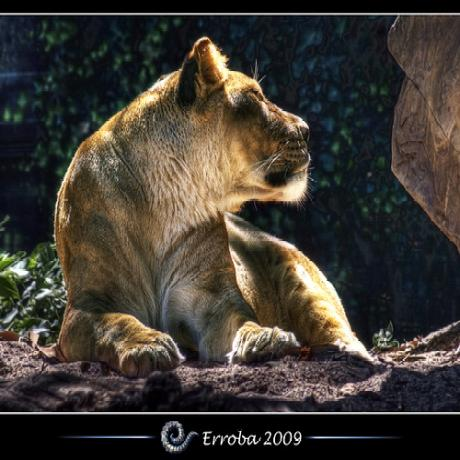Lion: (52, 31, 372, 370)
